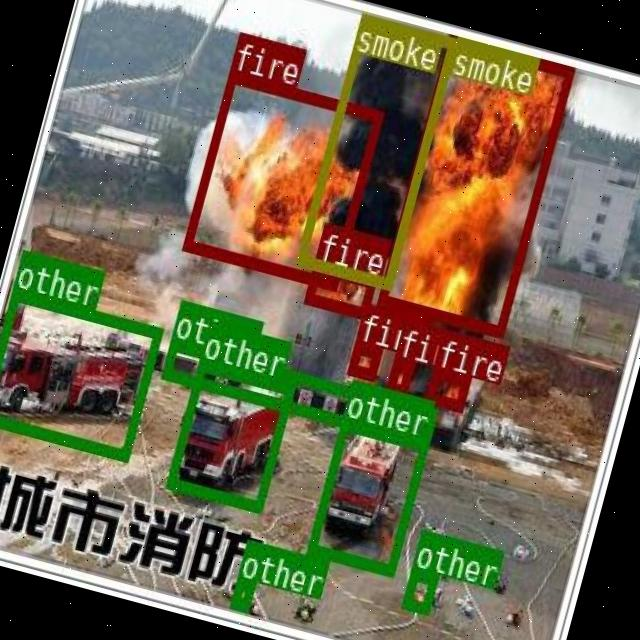fire: (376, 34, 574, 336), (182, 69, 384, 288), (304, 260, 376, 316), (424, 366, 469, 409), (346, 338, 381, 378), (384, 354, 413, 394)
smoke: (293, 11, 457, 288), (450, 34, 507, 74)
